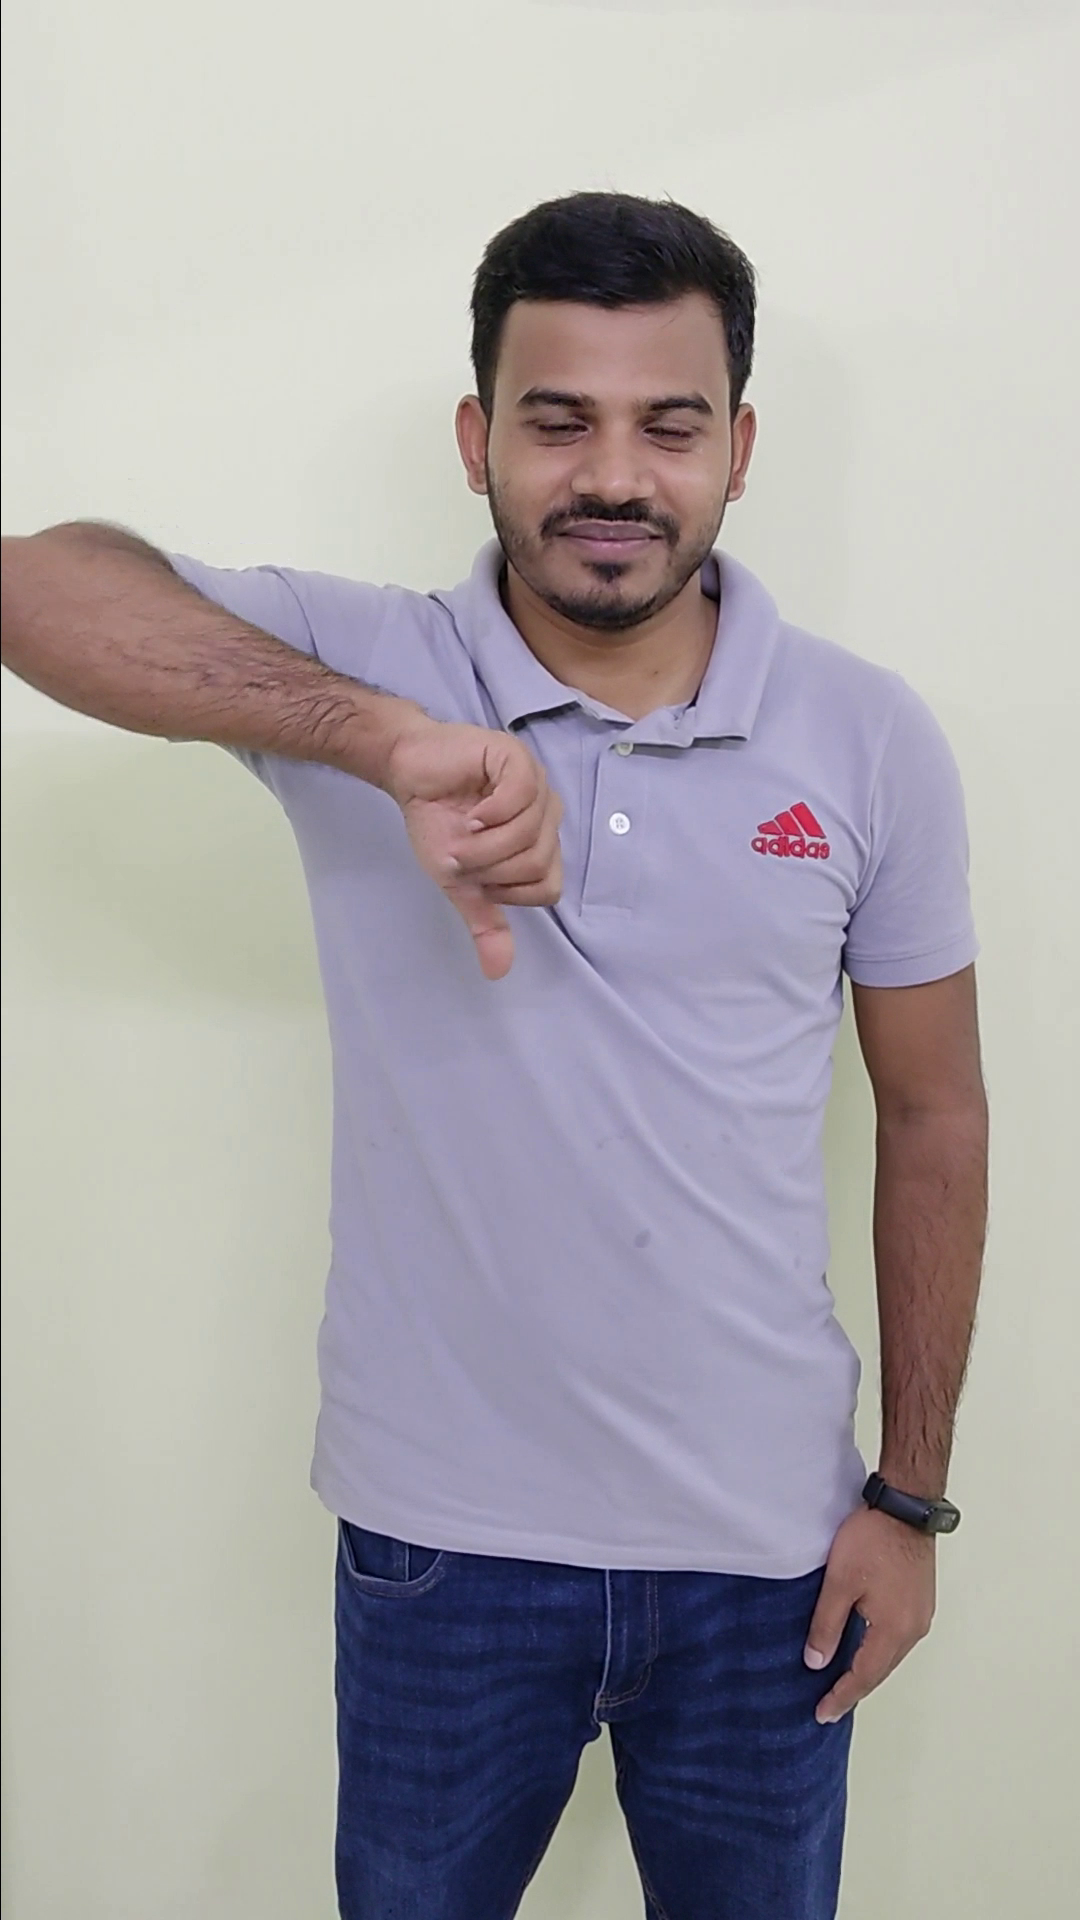Dislike: (394, 684, 588, 996)
None: (791, 1461, 963, 1745)
